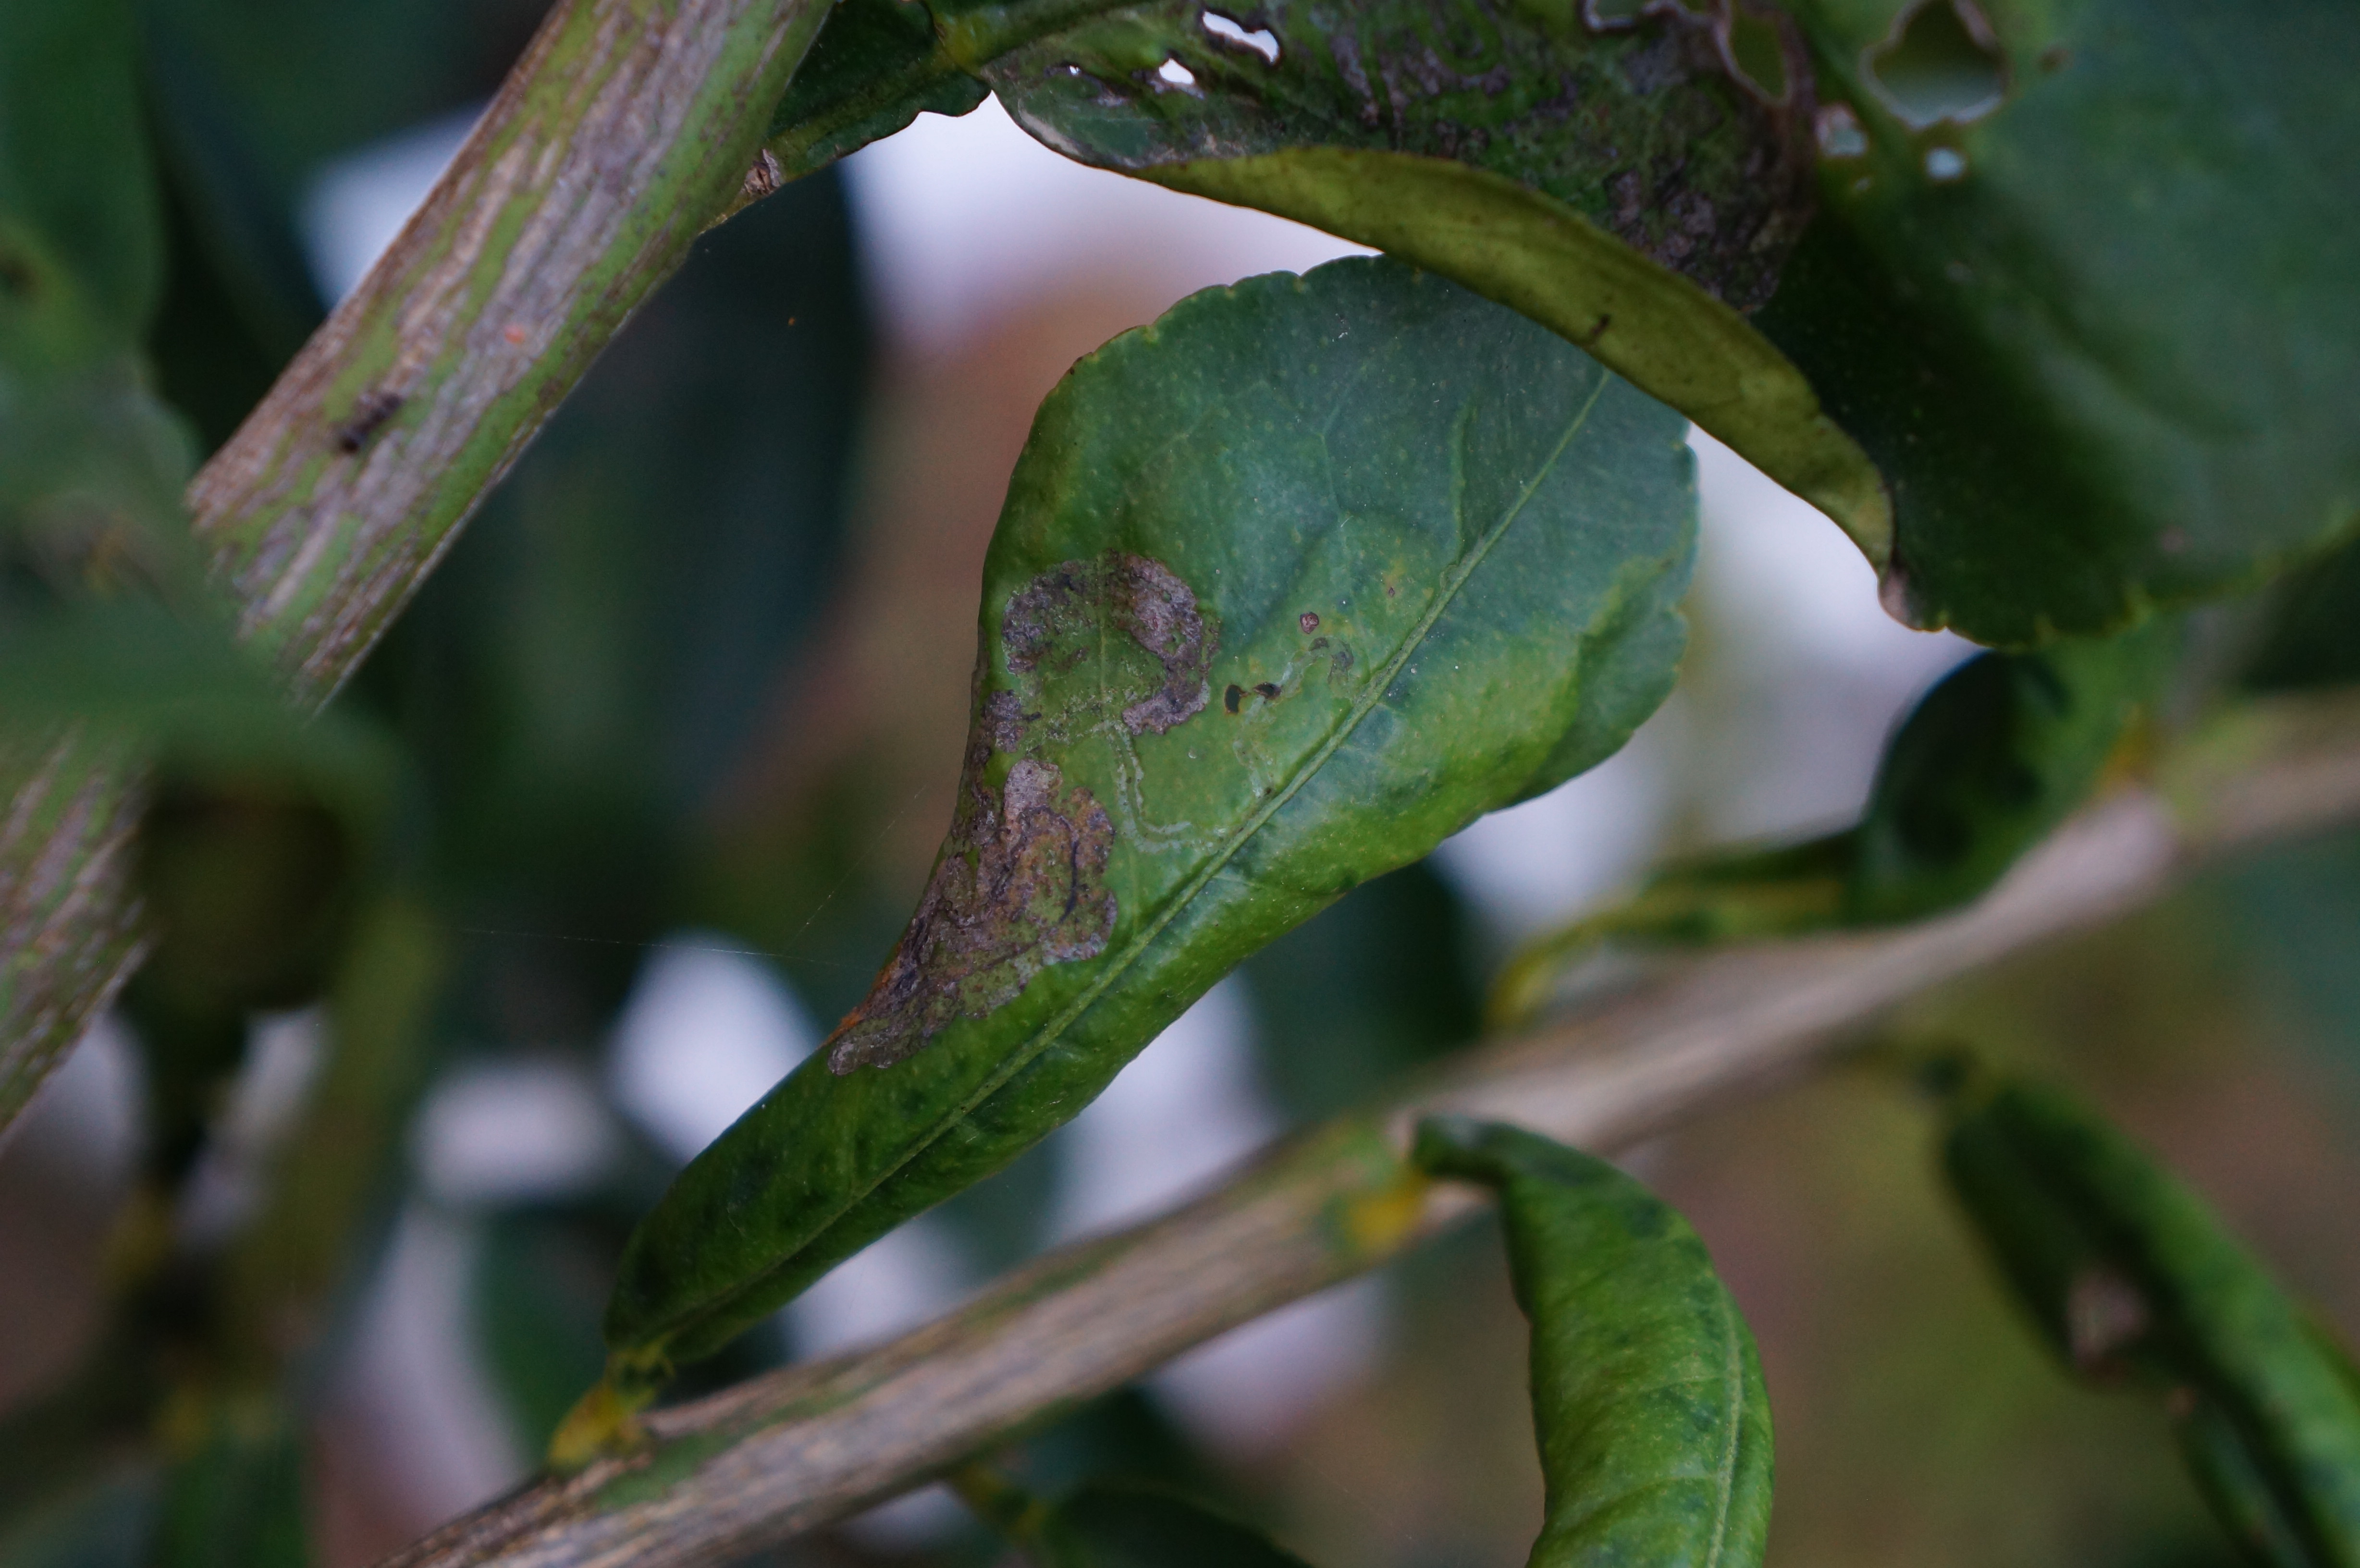curly: (586, 185, 1725, 1384), (1401, 1090, 1802, 1568)
damage: (1011, 0, 2014, 348), (808, 537, 1246, 1094)
